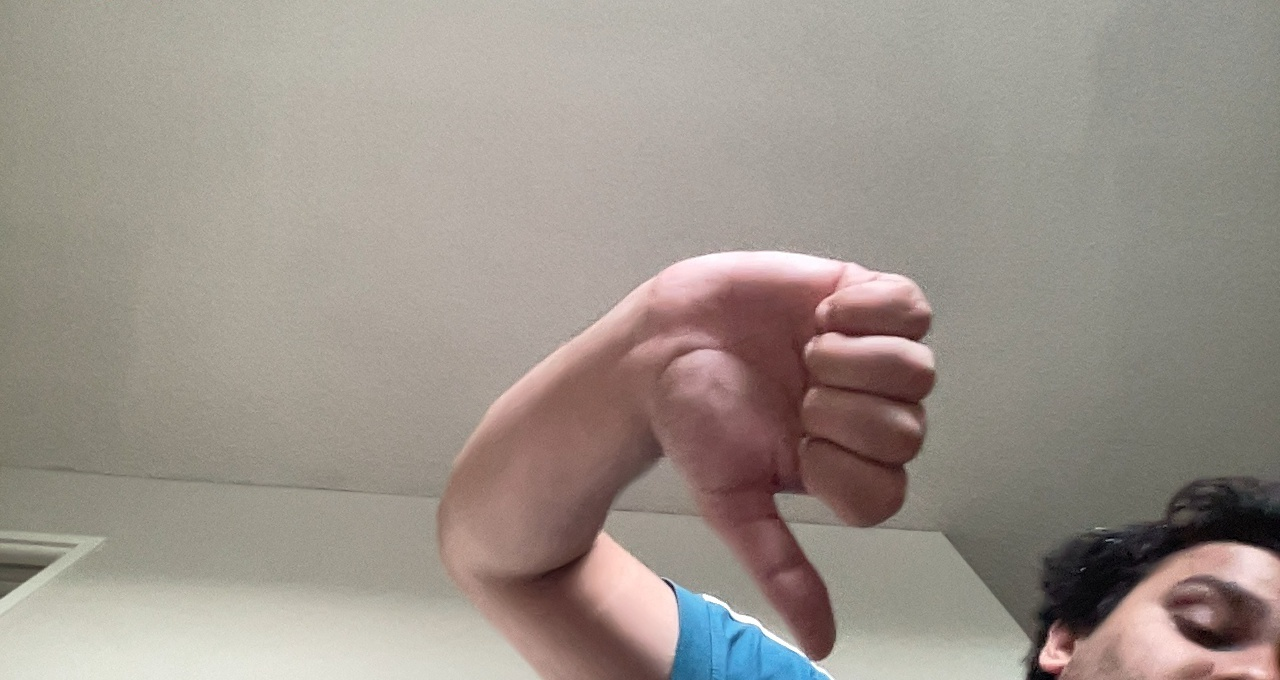thumbsdown: (632, 239, 940, 655)
